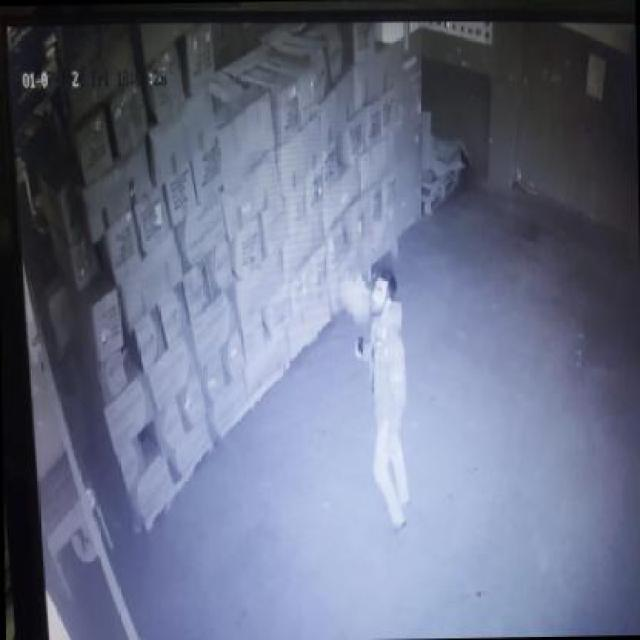fire: (331, 259, 371, 332)
